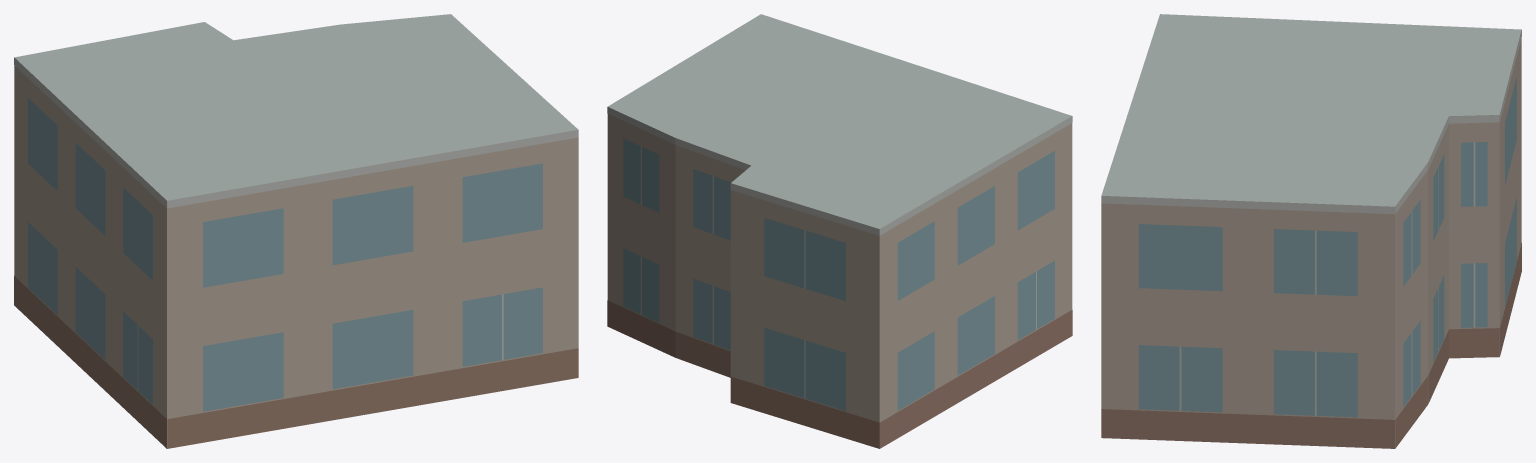
The model's file is survey-upis-32968139.glb.
The picture shows the model from 3 angles, left to right: view 1: azimuth 30°, elevation 25°; view 2: azimuth 150°, elevation 25°; view 3: azimuth 270°, elevation 25°; orthographic projection. The views are drawn at different scales.
Visible parts, largest first — view 1: survey-upis-32968139.tmp; view 2: survey-upis-32968139.tmp; view 3: survey-upis-32968139.tmp.
Boxes of the visible parts, left/top/right/bottom form: survey-upis-32968139.tmp: left=14, top=14, right=578, bottom=448; survey-upis-32968139.tmp: left=607, top=14, right=1072, bottom=448; survey-upis-32968139.tmp: left=1101, top=14, right=1521, bottom=448.
Bounding box in the file's own units: 13.49 × 7.9 × 12.44.
